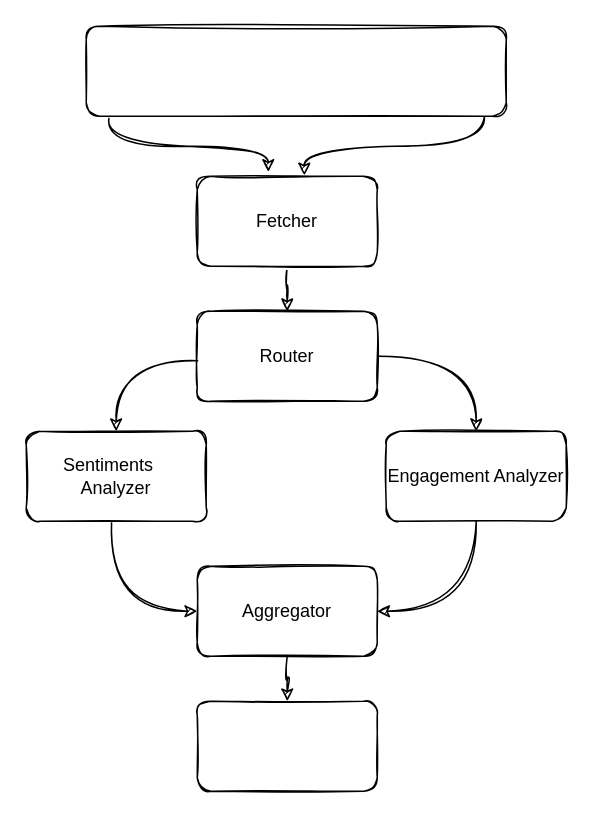
Image size: 593x818. Some labels were removed from this diagram. The shapes that lost their labels are listed below. From the top down, each one's box as (x1, y1, x2, y2) in pixels, then its label:
(85, 25, 506, 116): Source Server
(196, 700, 377, 791): Database
